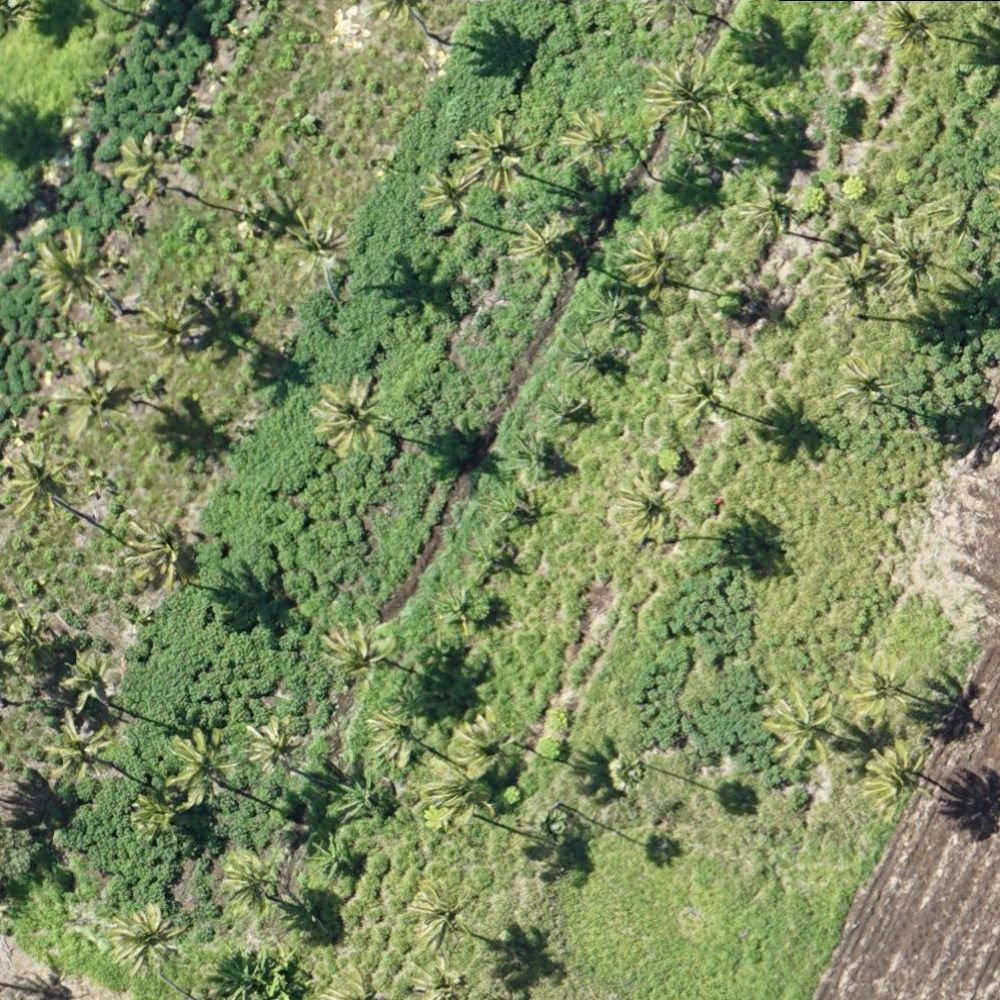Palm: (310, 376, 388, 455), (641, 56, 721, 131), (765, 681, 837, 763), (52, 355, 122, 435), (108, 910, 186, 981), (166, 731, 239, 805), (31, 232, 103, 307), (283, 208, 352, 283), (459, 118, 527, 194), (876, 216, 938, 297), (621, 224, 685, 301), (865, 750, 932, 820), (318, 616, 391, 680), (127, 513, 190, 585), (560, 108, 628, 173), (420, 762, 485, 827), (615, 472, 682, 535), (512, 216, 578, 279), (736, 182, 802, 245), (848, 656, 908, 725), (446, 713, 510, 777), (136, 289, 201, 352), (44, 712, 106, 778), (406, 885, 468, 950), (3, 451, 64, 517), (363, 709, 424, 772), (215, 856, 280, 915), (818, 247, 880, 308), (413, 168, 478, 224), (243, 717, 304, 776), (880, 3, 937, 61), (835, 351, 890, 411), (113, 134, 168, 192), (672, 361, 730, 415), (63, 647, 116, 705), (4, 611, 48, 667), (128, 792, 173, 842)
